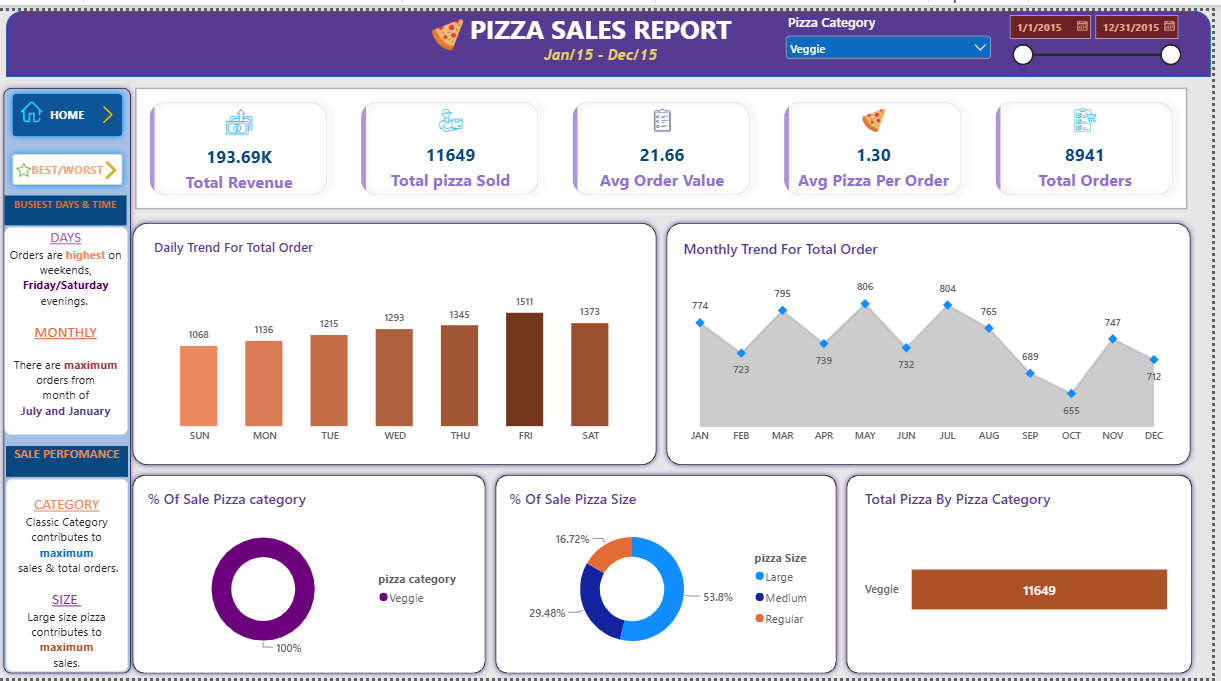

This screenshot's page, from the dashboard's own definition file:
{"tool":"powerbi","page":{"name":"HOME","canvas":[1500,820],"ordinal":0},"visuals":[{"type":"cardVisual","fields":{"Data":["public pizza_sales.Total Revenue","public pizza_sales.Total pizza Sold","public pizza_sales.avg_amount_spent_per_order","public pizza_sales.Average Pizza Per Order","public pizza_sales.Total Orders"]},"box":[177,94.1,1298.5,150],"z":0},{"type":"shape","box":[17.8,0,1481.1,81.1],"z":1000},{"type":"textbox","box":[529.6,0,440.7,59],"z":2000},{"type":"textbox","box":[621.5,42.4,256.3,51.6],"z":3000},{"type":"image","box":[529.3,7.4,63.3,43.3],"z":4000},{"type":"shape","box":[167.8,254.5,656.5,309.8],"z":5000},{"type":"columnChart","title":"Daily Trend For Total Order","fields":{"Category":["public pizza_sales.Order Day"],"Y":["public pizza_sales.Total Orders"]},"box":[184.4,265.6,625.2,285.8],"z":6000},{"type":"shape","box":[824.3,254.5,656.5,309.8],"z":7000},{"type":"areaChart","title":"Monthly Trend For Total Order","fields":{"Category":["public pizza_sales.Order Month"],"Y":["public pizza_sales.Total Orders"]},"box":[835.4,265.6,630.7,285.8],"z":8000},{"type":"shape","box":[167.8,564.3,446.3,256.3],"z":9000},{"type":"shape","box":[614.1,564.3,431.5,256.3],"z":10000},{"type":"shape","box":[1045.6,564.3,437.1,256.3],"z":11000},{"type":"donutChart","title":"% Of Sale Pizza category","fields":{"Category":["public pizza_sales.pizza_category"],"Y":["public pizza_sales.Total Revenue"]},"box":[177.2,573.9,427.2,237],"z":12000},{"type":"donutChart","title":"% Of Sale Pizza Size","fields":{"Category":["public pizza_sales.pizza_size"],"Y":["public pizza_sales.Total Revenue"]},"box":[621.7,573.9,416.3,237],"z":13000},{"type":"funnel","title":"Total Pizza By Pizza Category","fields":{"Category":["public pizza_sales.pizza_category"],"Y":["public pizza_sales.Total pizza Sold"]},"box":[1057.7,573.2,408.5,236.6],"z":14000},{"type":"shape","box":[8.9,87.8,168.9,732.2],"z":15000},{"type":"textbox","box":[17,226.9,150,36.7],"z":16000},{"type":"textbox","box":[17,264.7,151.3,255.3],"z":17000},{"type":"textbox","box":[17.8,574.4,150,236.7],"z":18000},{"type":"textbox","box":[17.8,535.6,150,37.8],"z":19000},{"type":"slicer","fields":{"Values":["public pizza_sales.pizza_category"]},"box":[971.2,2.5,262.3,81.1],"z":19001},{"type":"slicer","fields":{"Values":["public pizza_sales.order_date"]},"box":[1245,0,221.2,73.8],"z":19002},{"type":"pageNavigator","box":[18.9,94.5,151.3,68.1],"z":19003},{"type":"pageNavigator","box":[18.9,168.3,151.3,54.8],"z":19004},{"type":"image","box":[7.4,111.1,85.2,26.9],"z":19005},{"type":"image","box":[136.8,178.3,21.7,33.6],"z":19006},{"type":"image","box":[132.1,111.3,21.7,33.6],"z":19007},{"type":"image","box":[30.7,161.4,17.9,65.7],"z":19008}]}

Visuals, with their boxes in screenshot pixels (x1, y1, x2, y2), scaled from the page's 1500x820 canvas onto the 1221x681 screenshot:
cardVisual - public pizza_sales.Total Revenue x public pizza_sales.Total pizza Sold: (x1=144, y1=78, x2=1201, y2=203)
shape: (x1=14, y1=0, x2=1220, y2=67)
textbox: (x1=431, y1=0, x2=790, y2=49)
textbox: (x1=506, y1=35, x2=715, y2=78)
image: (x1=431, y1=6, x2=482, y2=42)
shape: (x1=137, y1=211, x2=671, y2=469)
"Daily Trend For Total Order" columnChart: (x1=150, y1=221, x2=659, y2=458)
shape: (x1=671, y1=211, x2=1205, y2=469)
"Monthly Trend For Total Order" areaChart: (x1=680, y1=221, x2=1193, y2=458)
shape: (x1=137, y1=469, x2=500, y2=680)
shape: (x1=500, y1=469, x2=851, y2=680)
shape: (x1=851, y1=469, x2=1207, y2=680)
"% Of Sale Pizza category" donutChart: (x1=144, y1=477, x2=492, y2=673)
"% Of Sale Pizza Size" donutChart: (x1=506, y1=477, x2=845, y2=673)
"Total Pizza By Pizza Category" funnel: (x1=861, y1=476, x2=1193, y2=673)
shape: (x1=7, y1=73, x2=145, y2=680)
textbox: (x1=14, y1=188, x2=136, y2=219)
textbox: (x1=14, y1=220, x2=137, y2=432)
textbox: (x1=14, y1=477, x2=137, y2=674)
textbox: (x1=14, y1=445, x2=137, y2=476)
slicer - public pizza_sales.pizza_category: (x1=791, y1=2, x2=1004, y2=69)
slicer - public pizza_sales.order_date: (x1=1013, y1=0, x2=1193, y2=61)
pageNavigator: (x1=15, y1=78, x2=139, y2=135)
pageNavigator: (x1=15, y1=140, x2=139, y2=185)
image: (x1=6, y1=92, x2=75, y2=115)
image: (x1=111, y1=148, x2=129, y2=176)
image: (x1=108, y1=92, x2=125, y2=120)
image: (x1=25, y1=134, x2=40, y2=189)
